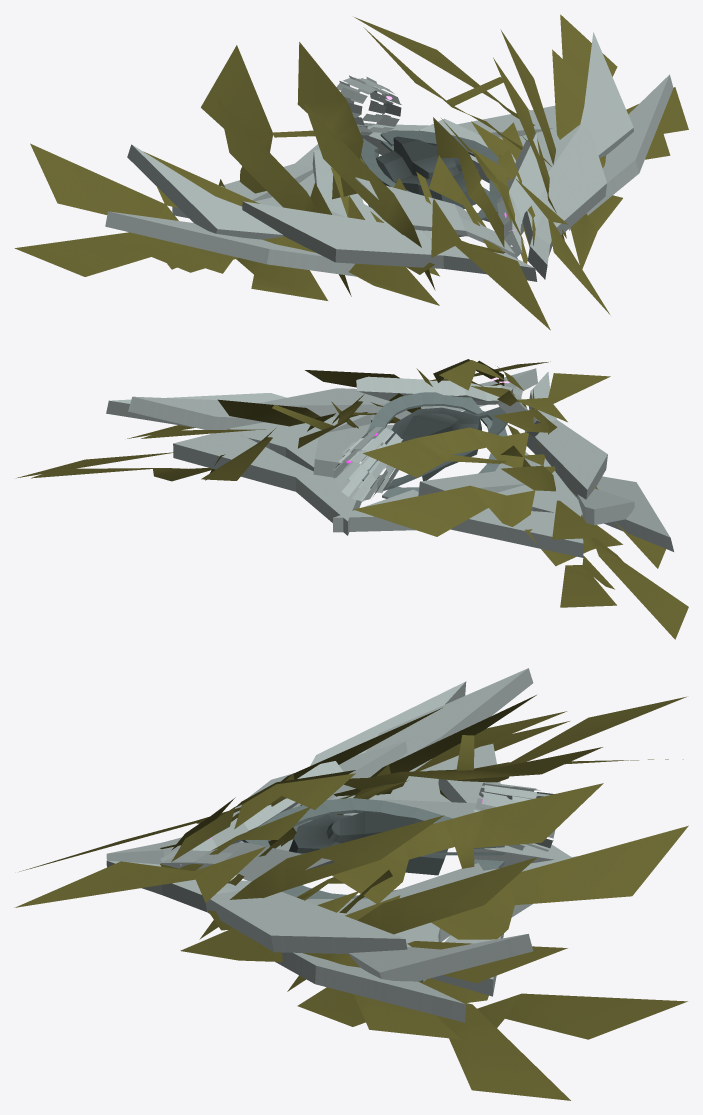
File: EnemyShooter.fbx
3 renders of one model, top to bottom at view 1: azimuth 30°, elevation 25°; view 2: azimuth 150°, elevation 25°; view 3: azimuth 270°, elevation 25°, orthographic. The views are drawn at different scales.
Parts seen in each view (by area): view 1: Cube.021, Plane.004, Circle.003, Plane.003, Circle.002; view 2: Plane.004, Cube.021, Circle.002, Plane.003, Circle.003; view 3: Cube.021, Plane.004, Circle.003, Circle.002, Plane.003.
Boxes of the visible parts, x1,y1,x2,y2 form: Cube.021: [14, 14, 688, 330]; Plane.004: [105, 32, 673, 281]; Circle.003: [376, 136, 480, 208]; Plane.003: [336, 75, 401, 135]; Circle.002: [360, 130, 500, 236]; Plane.004: [106, 368, 673, 557]; Cube.021: [16, 359, 688, 639]; Circle.002: [361, 392, 507, 498]; Plane.003: [333, 427, 402, 501]; Circle.003: [377, 407, 481, 480]; Cube.021: [14, 695, 688, 1100]; Plane.004: [106, 668, 578, 1022]; Circle.003: [289, 811, 447, 875]; Circle.002: [241, 798, 504, 899]; Plane.003: [474, 782, 555, 851].
Size of the model in its own units: 5.7 by 1.18 by 4.28.
